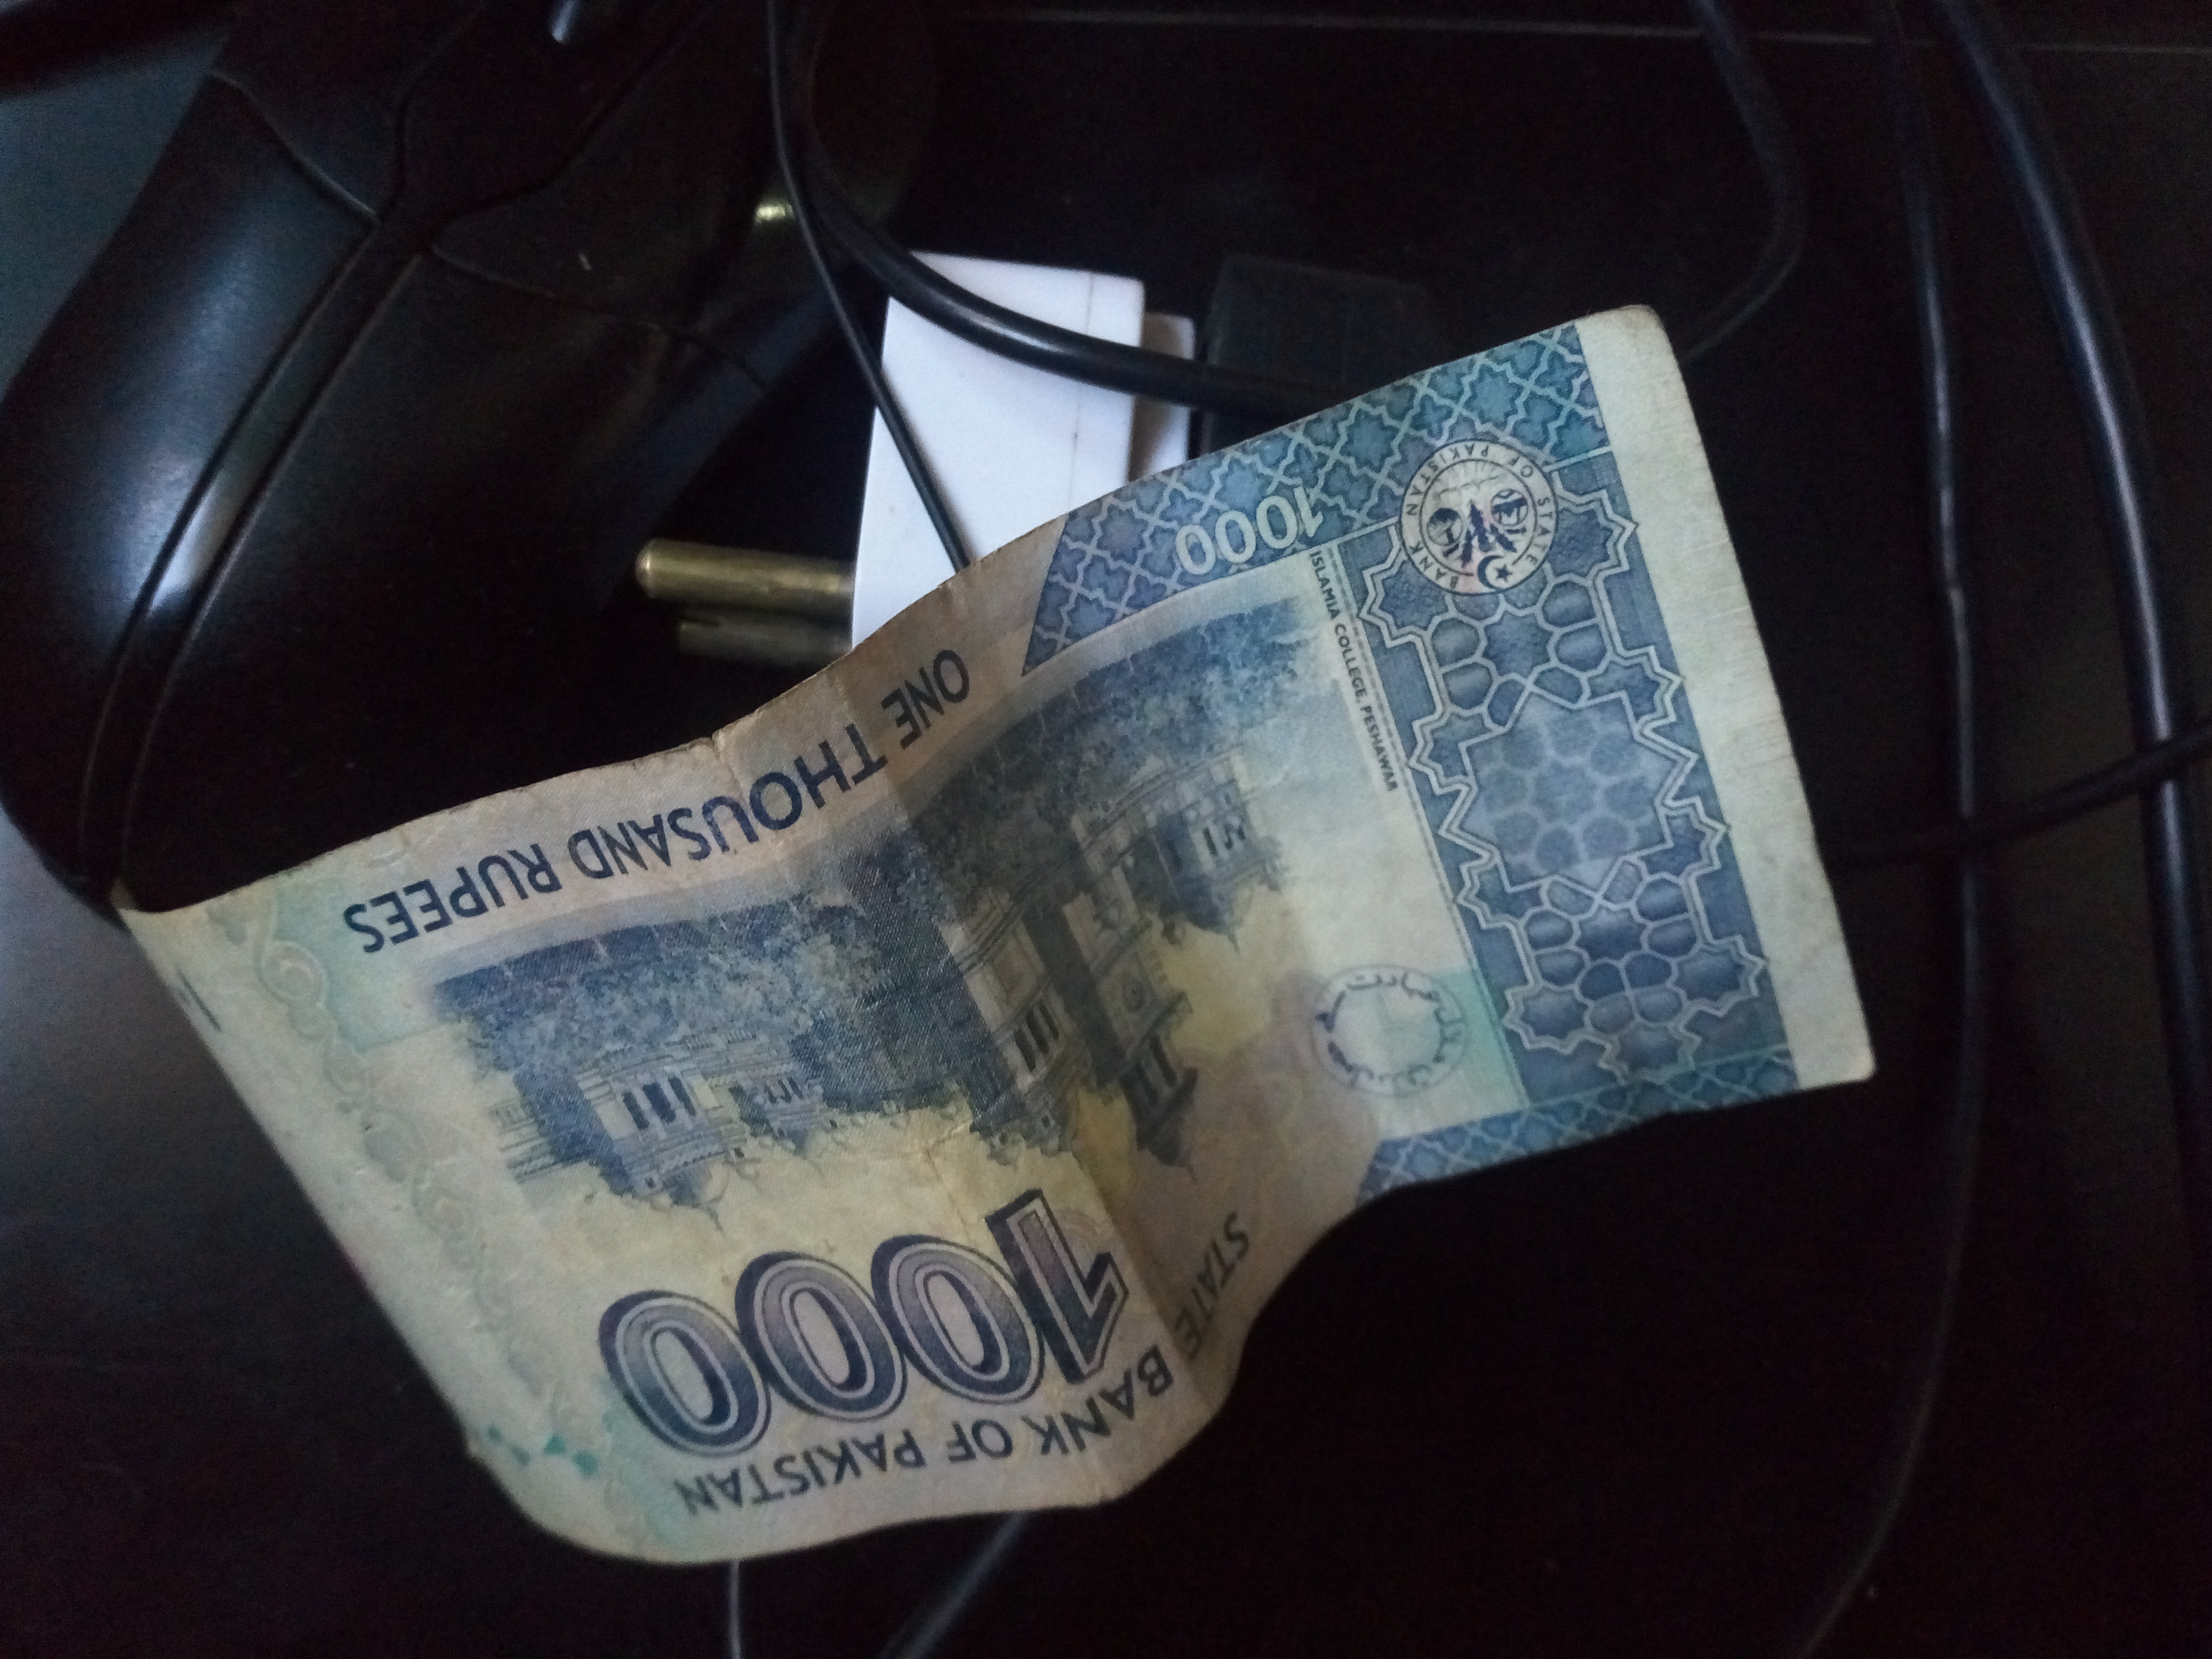1000 rupee: (75, 310, 1900, 1577)
